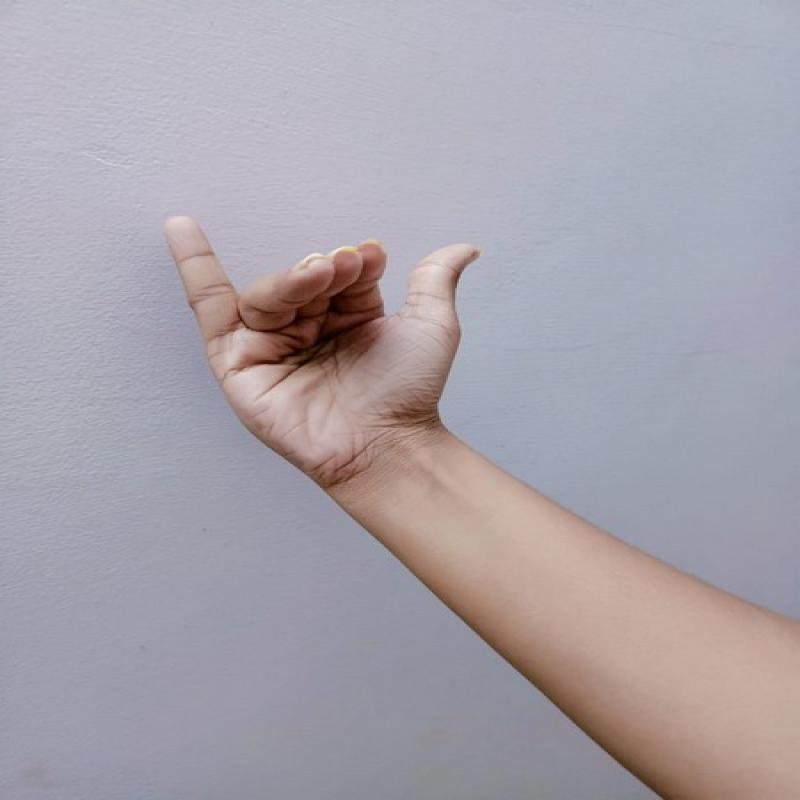Kartharee Mukham: (151, 190, 496, 501)
